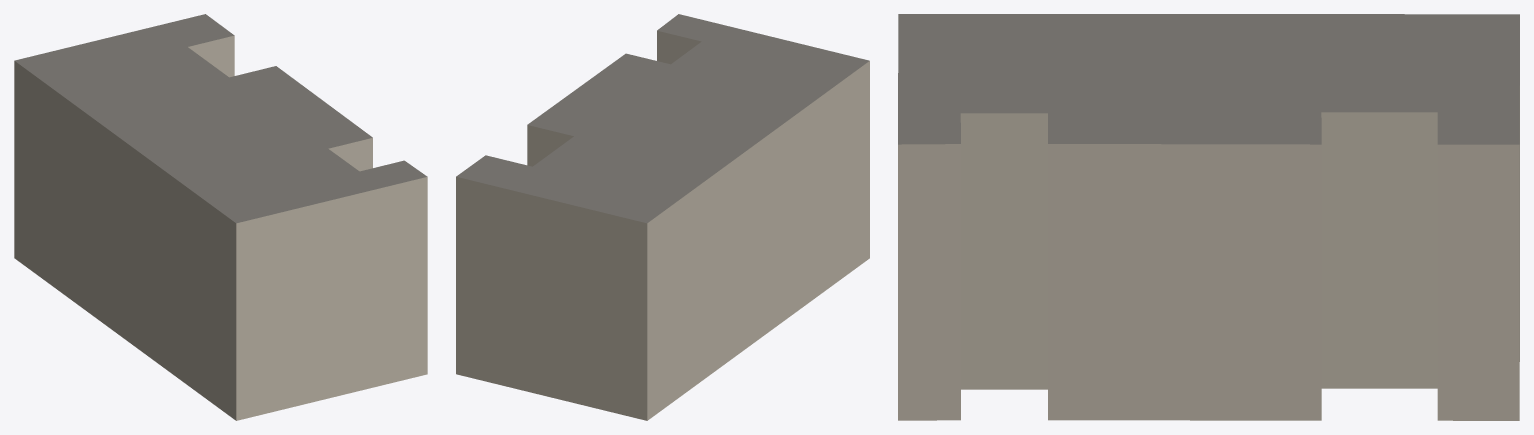
3 renders of one model, left to right at view 1: azimuth 30°, elevation 25°; view 2: azimuth 150°, elevation 25°; view 3: azimuth 270°, elevation 25°, orthographic. The views are drawn at different scales.
Parts seen in each view (by area): view 1: HP-w1197246865; view 2: HP-w1197246865; view 3: HP-w1197246865.
Part boxes in pixels (x1,y1,x2,y2): HP-w1197246865: (14, 14, 427, 420); HP-w1197246865: (456, 14, 869, 420); HP-w1197246865: (898, 14, 1519, 420).
Size of the model in its own units: 18.27 by 18 by 36.72.
